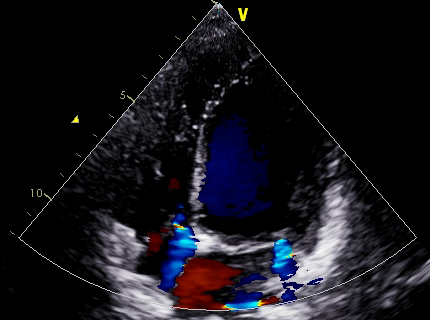MR: (205, 225, 298, 269)
